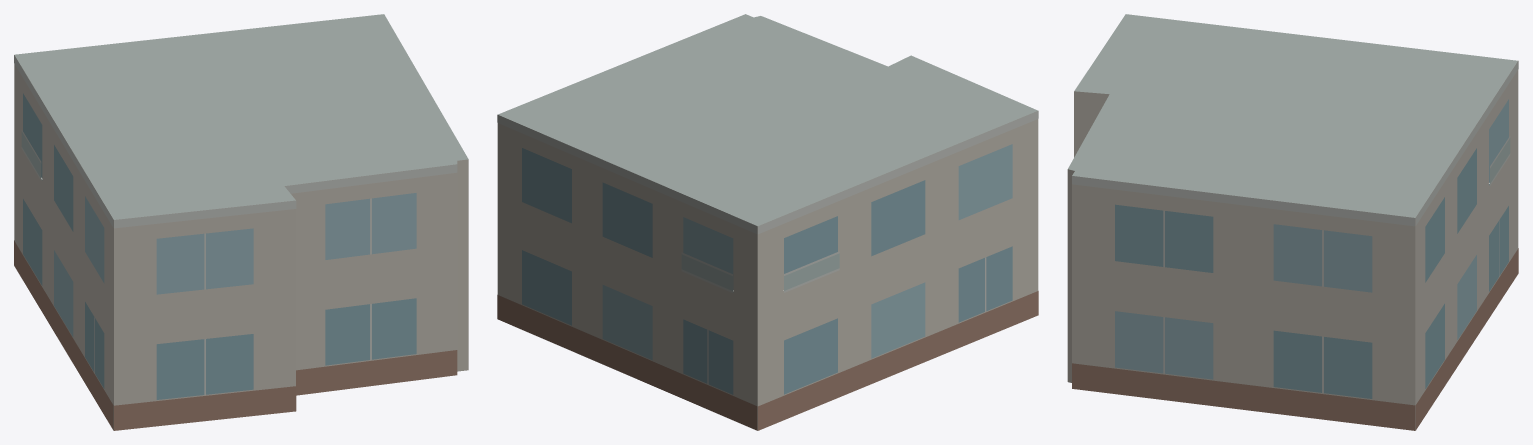
The model's file is survey-upis-32916646.glb.
The picture shows the model from 3 angles, left to right: view 1: azimuth 30°, elevation 25°; view 2: azimuth 150°, elevation 25°; view 3: azimuth 270°, elevation 25°; orthographic projection. The views are drawn at different scales.
Parts seen in each view (by area): view 1: survey-upis-32916646.tmp; view 2: survey-upis-32916646.tmp; view 3: survey-upis-32916646.tmp.
Part boxes in pixels (x1,y1,x2,y2): survey-upis-32916646.tmp: [14, 14, 468, 430]; survey-upis-32916646.tmp: [497, 14, 1038, 430]; survey-upis-32916646.tmp: [1067, 14, 1518, 430].
Bounding box in the file's own units: 12.54 × 6.1 × 11.71.
